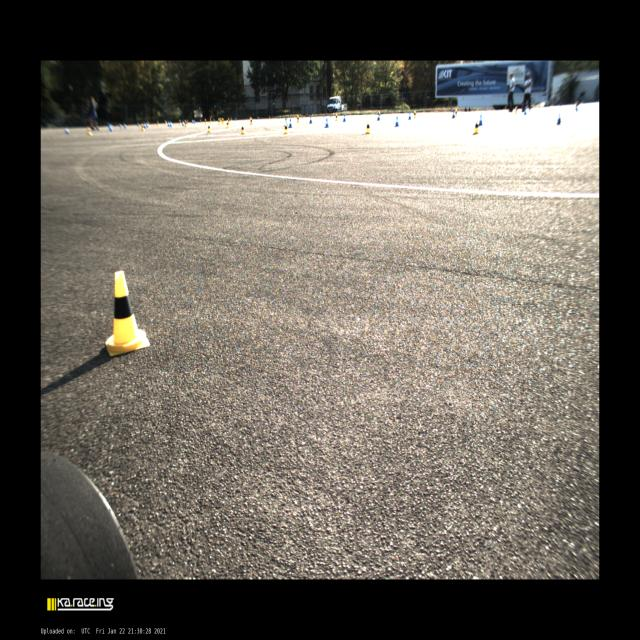blue_cone: (394, 116, 400, 127), (478, 114, 483, 126), (324, 118, 329, 128), (557, 113, 561, 124), (288, 118, 292, 128), (451, 110, 455, 118), (408, 111, 411, 120), (377, 113, 380, 121), (110, 126, 114, 132), (309, 116, 312, 123), (167, 120, 170, 127), (182, 120, 185, 126), (170, 121, 173, 127), (524, 106, 526, 115), (343, 114, 345, 122), (144, 124, 147, 129), (330, 113, 332, 117), (315, 114, 317, 118), (323, 113, 325, 117)
yellow_cone: (106, 270, 149, 355), (472, 120, 478, 135), (365, 122, 370, 134), (207, 124, 211, 132), (89, 128, 93, 136), (225, 120, 229, 128), (334, 113, 338, 121), (284, 123, 287, 133), (241, 125, 244, 134), (296, 115, 299, 123), (413, 110, 416, 118), (142, 125, 145, 132), (204, 118, 207, 125), (179, 119, 182, 125), (250, 117, 252, 125), (455, 108, 457, 116), (157, 122, 160, 127), (268, 115, 271, 120), (185, 120, 187, 127), (218, 118, 220, 125), (165, 120, 167, 126), (210, 118, 212, 124), (222, 118, 224, 124), (228, 118, 230, 124), (332, 113, 335, 117), (300, 114, 302, 119), (312, 114, 313, 119)
